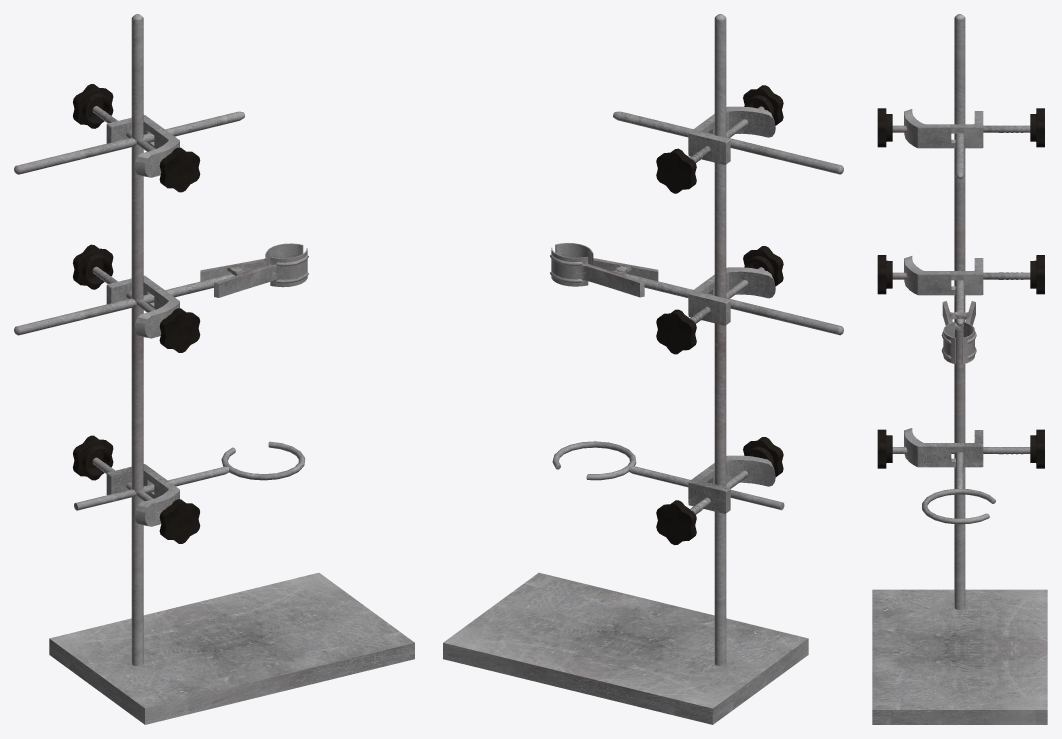
File: hx_jcyql_tjt.fbx
3 renders of one model, left to right at view 1: azimuth 30°, elevation 25°; view 2: azimuth 150°, elevation 25°; view 3: azimuth 270°, elevation 25°, orthographic. The views are drawn at different scales.
Visible parts, largest first — view 1: hx_jcyql_tjt, hx_jcyql_tjt_05, hx_jcyql_tjt_09, hx_jcyql_tjt_07, hx_jcyql_tjt_08, hx_jcyql_tjt_04; view 2: hx_jcyql_tjt, hx_jcyql_tjt_04, hx_jcyql_tjt_09, hx_jcyql_tjt_07, hx_jcyql_tjt_08, hx_jcyql_tjt_05; view 3: hx_jcyql_tjt, hx_jcyql_tjt_09, hx_jcyql_tjt_05, hx_jcyql_tjt_04, hx_jcyql_tjt_07, hx_jcyql_tjt_08.
Boxes of the visible parts, x1,y1,x2,y2 form: hx_jcyql_tjt: [49, 14, 414, 724]; hx_jcyql_tjt_05: [214, 248, 308, 297]; hx_jcyql_tjt_09: [74, 441, 305, 510]; hx_jcyql_tjt_07: [14, 111, 244, 174]; hx_jcyql_tjt_08: [14, 274, 234, 335]; hx_jcyql_tjt_04: [200, 243, 303, 281]; hx_jcyql_tjt: [443, 14, 808, 724]; hx_jcyql_tjt_04: [550, 247, 644, 297]; hx_jcyql_tjt_09: [552, 441, 784, 510]; hx_jcyql_tjt_07: [613, 111, 843, 174]; hx_jcyql_tjt_08: [624, 273, 843, 335]; hx_jcyql_tjt_05: [555, 243, 658, 281]; hx_jcyql_tjt: [872, 14, 1047, 724]; hx_jcyql_tjt_09: [922, 452, 995, 524]; hx_jcyql_tjt_05: [941, 301, 963, 363]; hx_jcyql_tjt_04: [956, 301, 976, 363]; hx_jcyql_tjt_07: [955, 133, 964, 179]; hx_jcyql_tjt_08: [955, 280, 964, 326].
Bounding box in the file's own units: 27.82 × 50.19 × 13.1.
